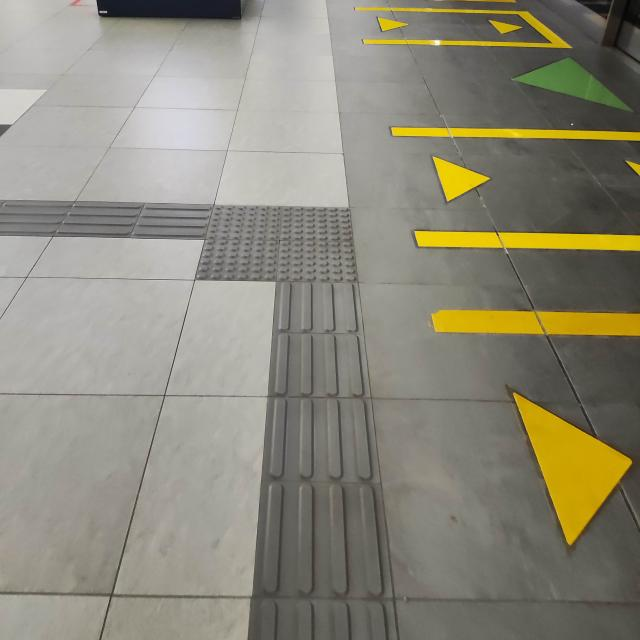kiri: (53, 159, 409, 322)
